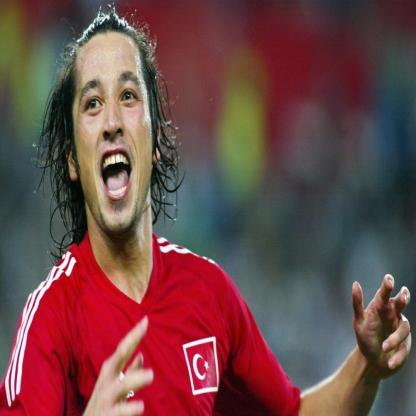person: (48, 11, 162, 235)
